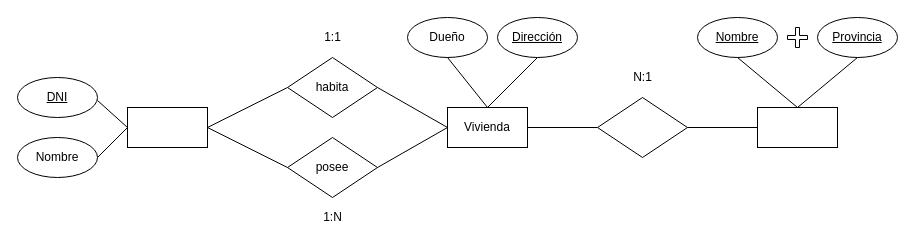
The diagram is 915 pixels wide and 245 high, and some of its shapes have lost their labels. Here are the shapes that lost their labels. From the top down, the box of each, then its label:
(126, 106, 208, 148): Persona
(596, 96, 688, 158): contenida en
(756, 106, 838, 148): Municipio
